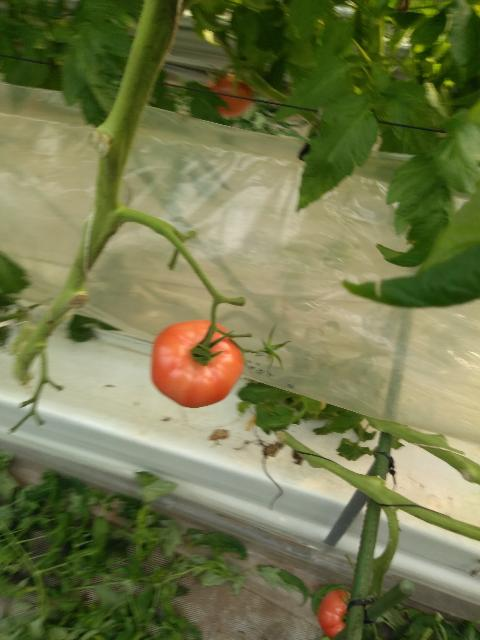b_half_ripened: (150, 319, 244, 408), (318, 590, 351, 636)
